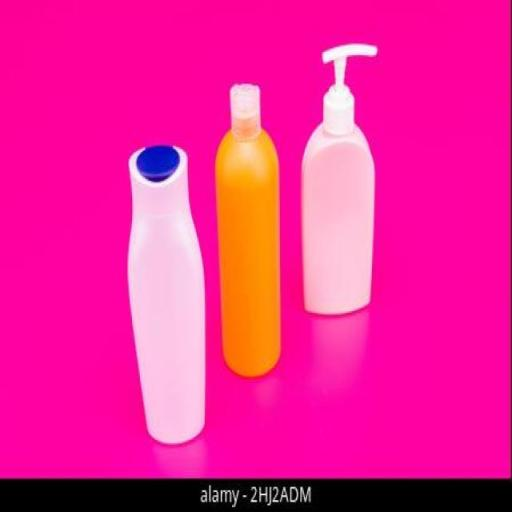plastic: (126, 140, 208, 446), (298, 37, 380, 329), (213, 80, 284, 382)
